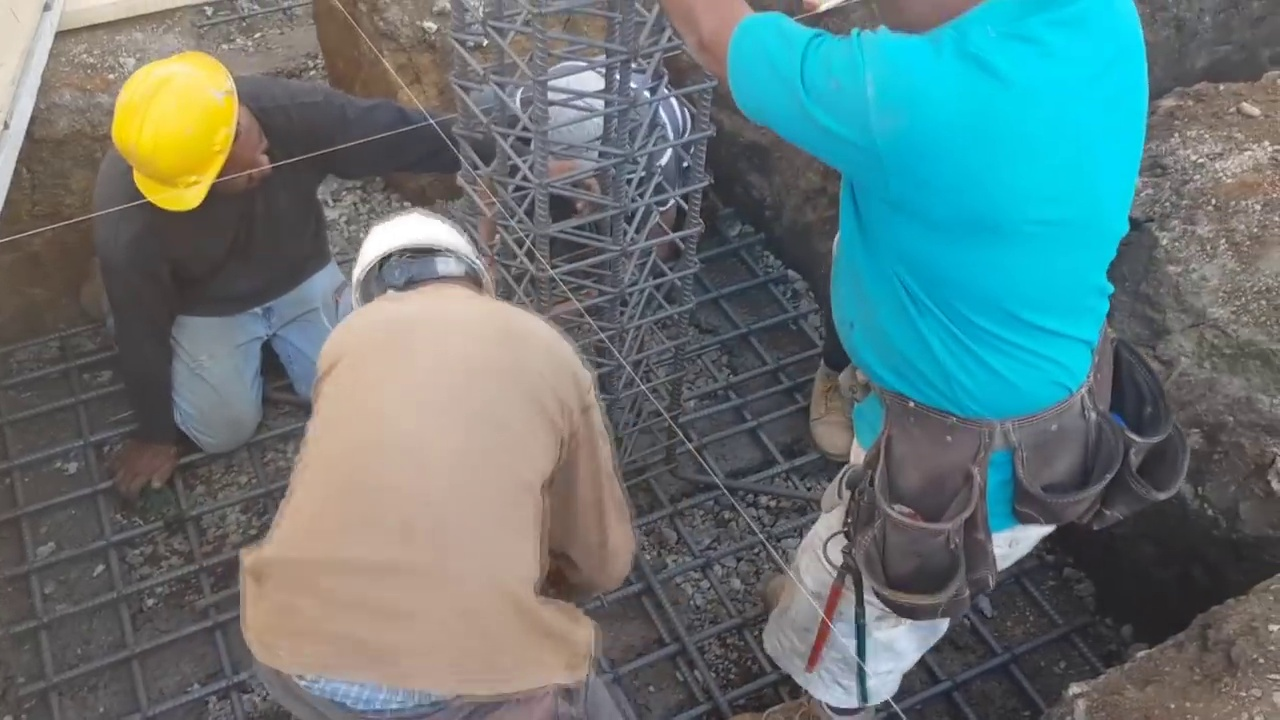helmet-off: (536, 59, 630, 188)
helmet-on: (97, 48, 280, 237), (89, 47, 259, 236), (347, 214, 496, 304)
person: (664, 3, 1152, 719), (82, 32, 602, 500), (222, 209, 648, 717), (468, 59, 702, 280)
